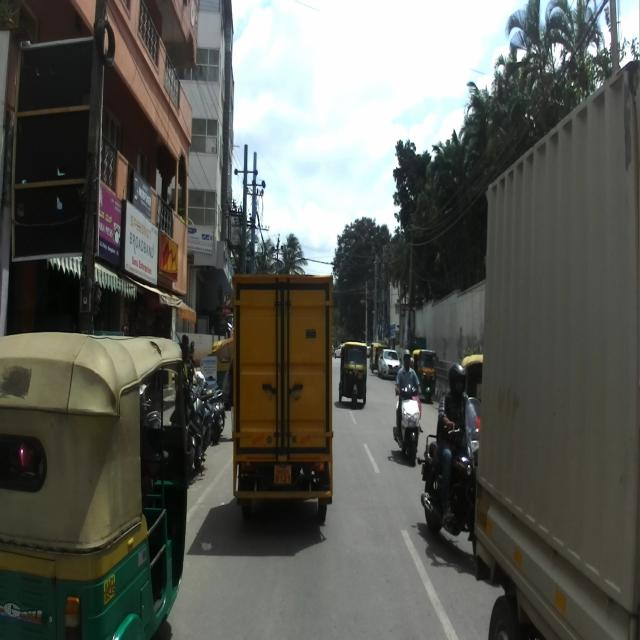autorickshaw: (0, 332, 194, 640)
motorcycle_Hero: (181, 380, 215, 476)
motorcycle_bajaj: (417, 396, 481, 560)
scooter: (392, 385, 422, 465)
truck: (472, 59, 640, 639)
